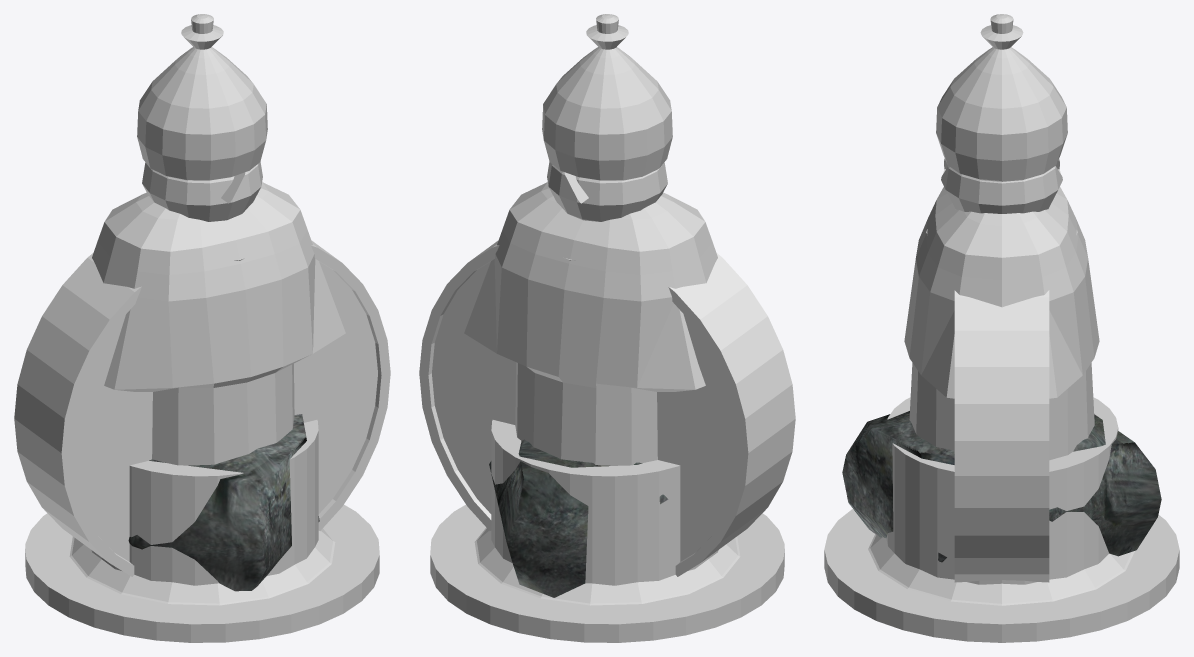
Rendered from pieces.glb.
3 renders of one model, left to right at view 1: azimuth 30°, elevation 25°; view 2: azimuth 150°, elevation 25°; view 3: azimuth 270°, elevation 25°, orthographic.
Visible parts, largest first — view 1: sorcerer, wheel, hat, rock, bishop; view 2: sorcerer, wheel, hat, rock, bishop; view 3: sorcerer, hat, wheel, rock, bishop.
Part boxes in pixels (x1,y1,x2,y2): sorcerer: (69, 14, 345, 605); wheel: (14, 240, 390, 576); hat: (25, 420, 379, 642); rock: (128, 414, 319, 591); bishop: (142, 162, 262, 260); sorcerer: (464, 14, 740, 605); wheel: (419, 240, 795, 576); hat: (430, 420, 784, 642); rock: (489, 439, 668, 597); bishop: (547, 162, 667, 260); sorcerer: (868, 14, 1134, 605); hat: (824, 397, 1179, 642); wheel: (954, 290, 1049, 582); rock: (842, 411, 1161, 562); bishop: (926, 158, 1077, 234).
Bounding box in the file's own units: 2 × 3.21 × 1.87.
2 materials, 1 textured.
